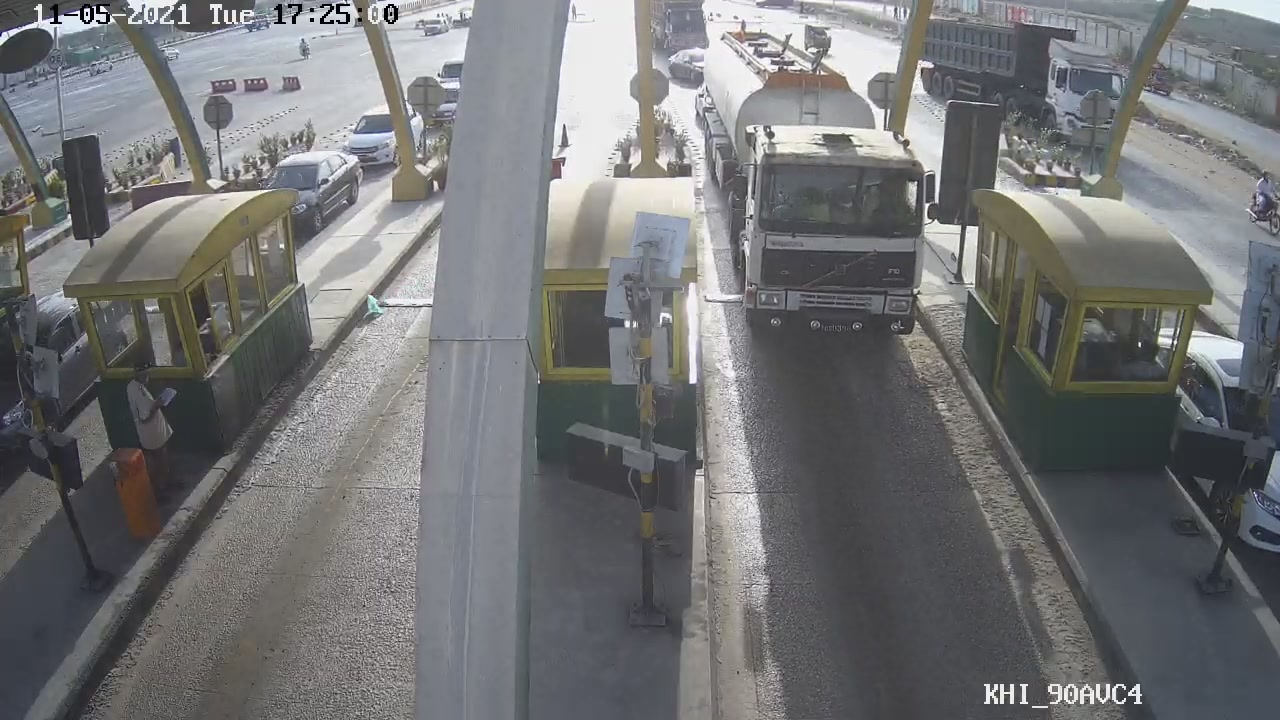F6: (687, 22, 929, 348)
